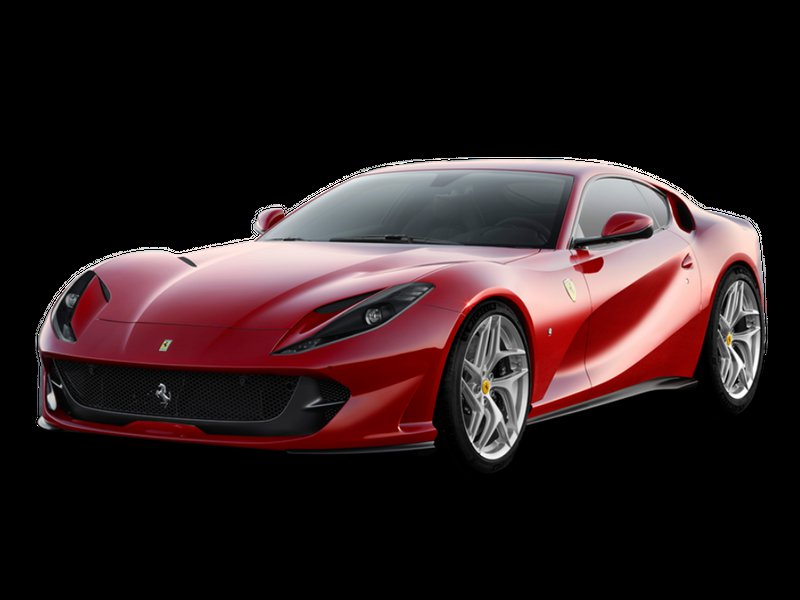car: (35, 143, 771, 451)
